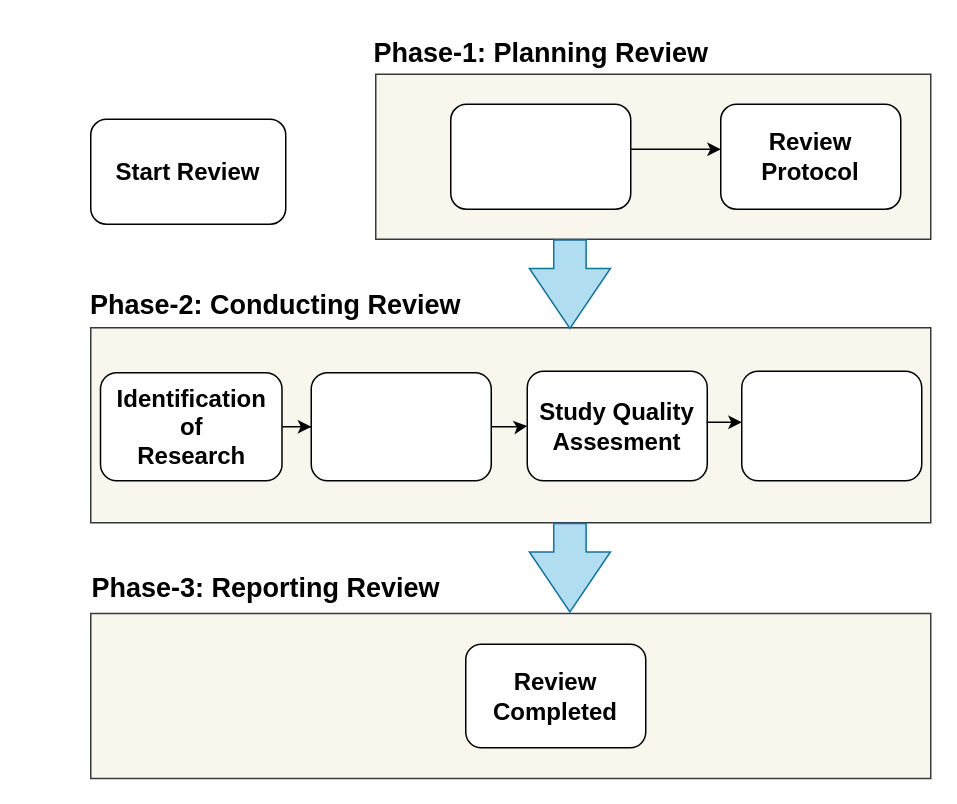
Image size: 957x804. Some labels were removed from this diagram. Here are the shapes that lost their labels. From the top down, the centre of each, then its label:
At (x=540, y=156): "Need of Systematic Review".
At (x=400, y=426): "Study Selection".
At (x=831, y=425): "Data Extracion & Synthesis".
